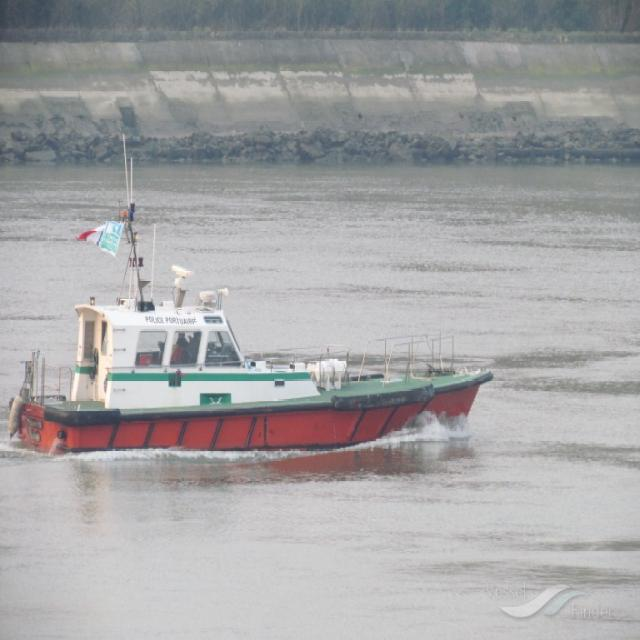OCR: (143, 307, 195, 325)
